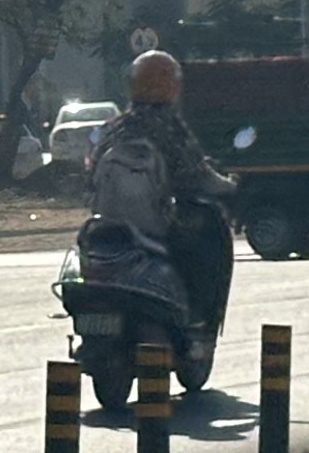BikeWithRider: (38, 52, 262, 413)
Helmet: (124, 52, 182, 111)
